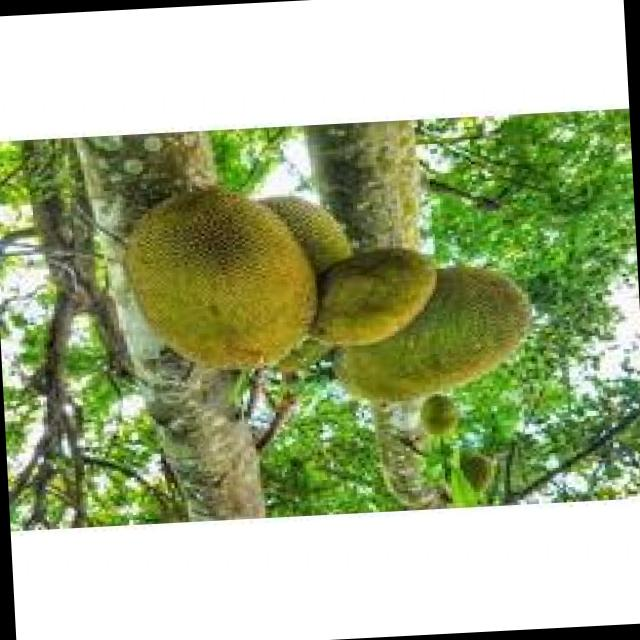Fruit: (112, 167, 332, 388)
